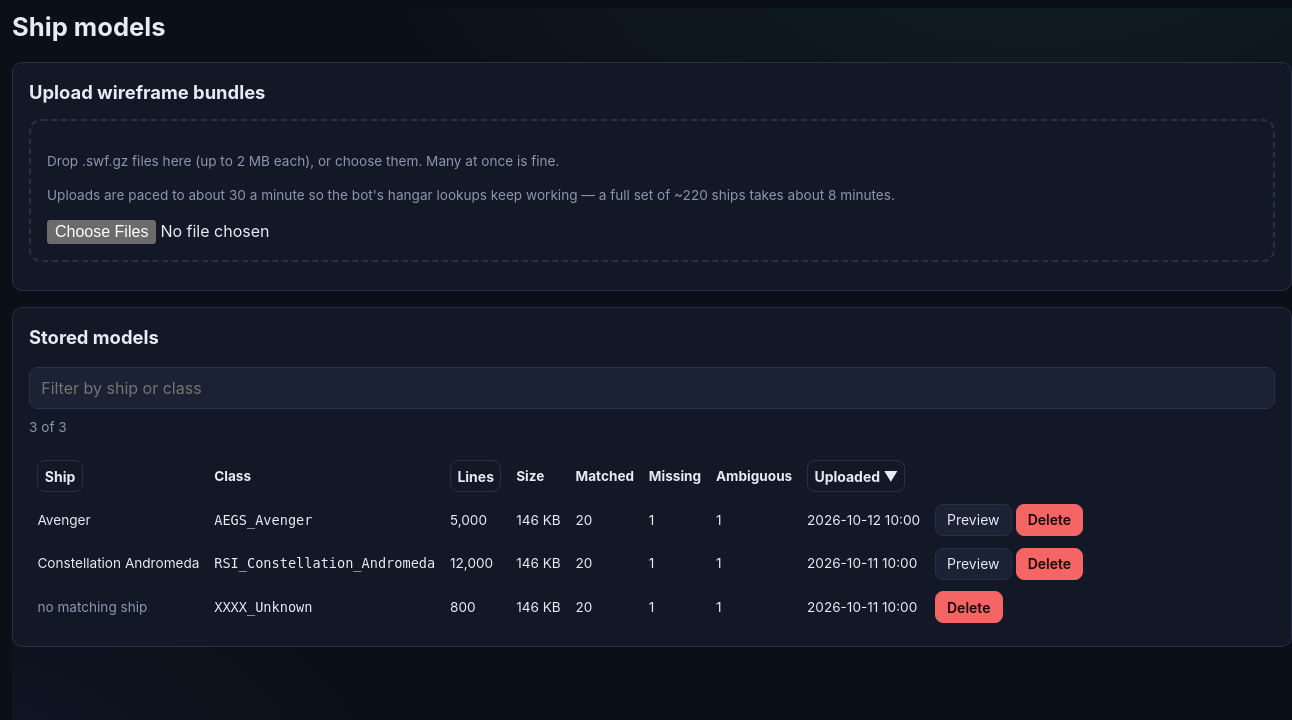
Test: stored models table › lists, filters and sorts
This screenshot has width=1292, height=720.
expect the text "no matching ship" is shown: met, box top-left (37, 599), bottom-right (147, 615)
expect the text "AEGS_Avenger" is shown: met, box top-left (208, 499), bottom-right (442, 541)
Click the button "Lines".
click(476, 476)  # box top-left (450, 460), bottom-right (501, 492)
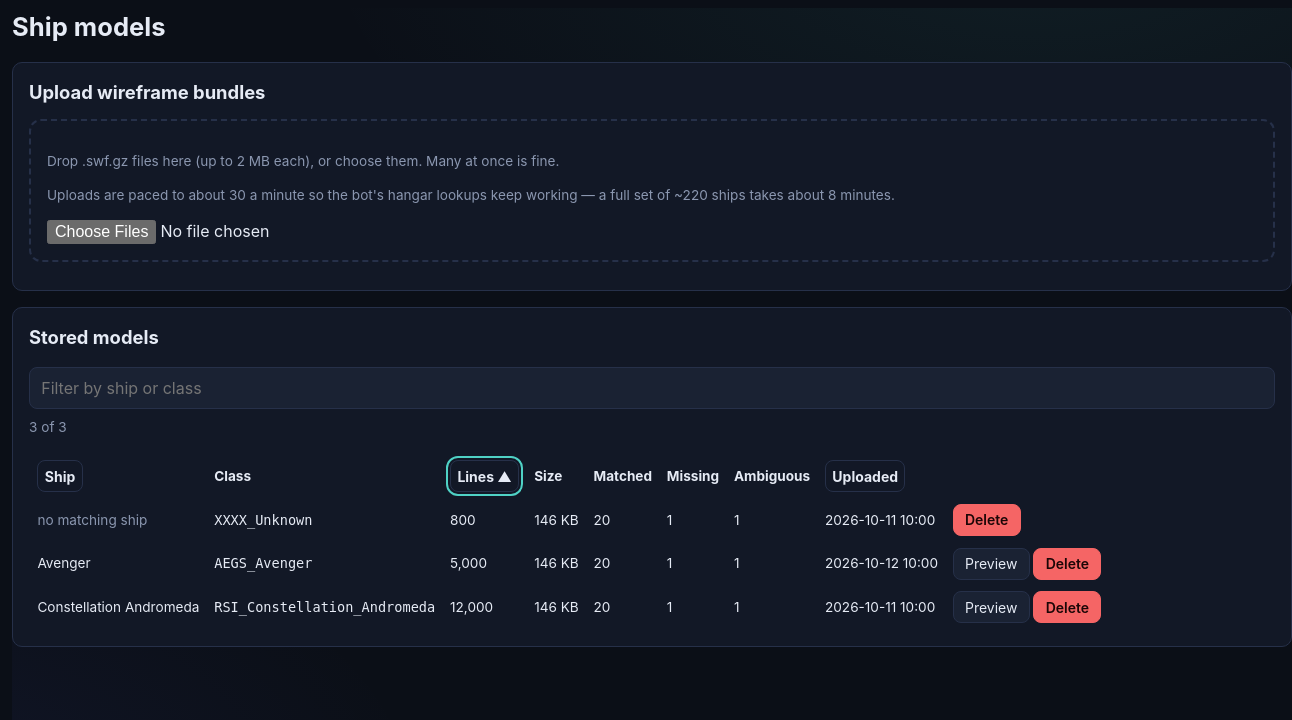
expect the text "XXXX_Unknown" is shown: met, box top-left (208, 499), bottom-right (442, 541)
Click the button "Lines ▲".
click(485, 476)  # box top-left (450, 460), bottom-right (519, 492)
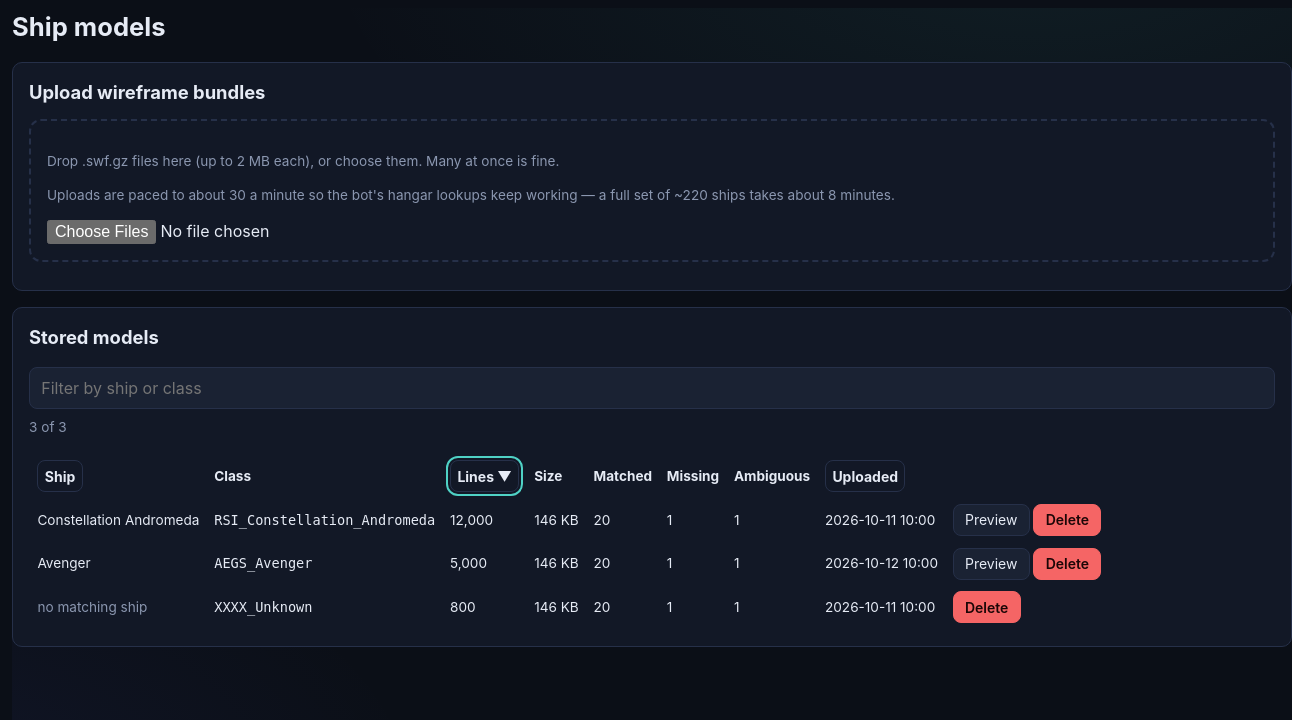
expect the text "RSI_Constellation_Andromeda" is shown: met, box top-left (208, 499), bottom-right (442, 541)
Type "aveng" into the search field named "Filter models".
click(652, 388); type("aveng")  # box top-left (29, 367), bottom-right (1275, 409)
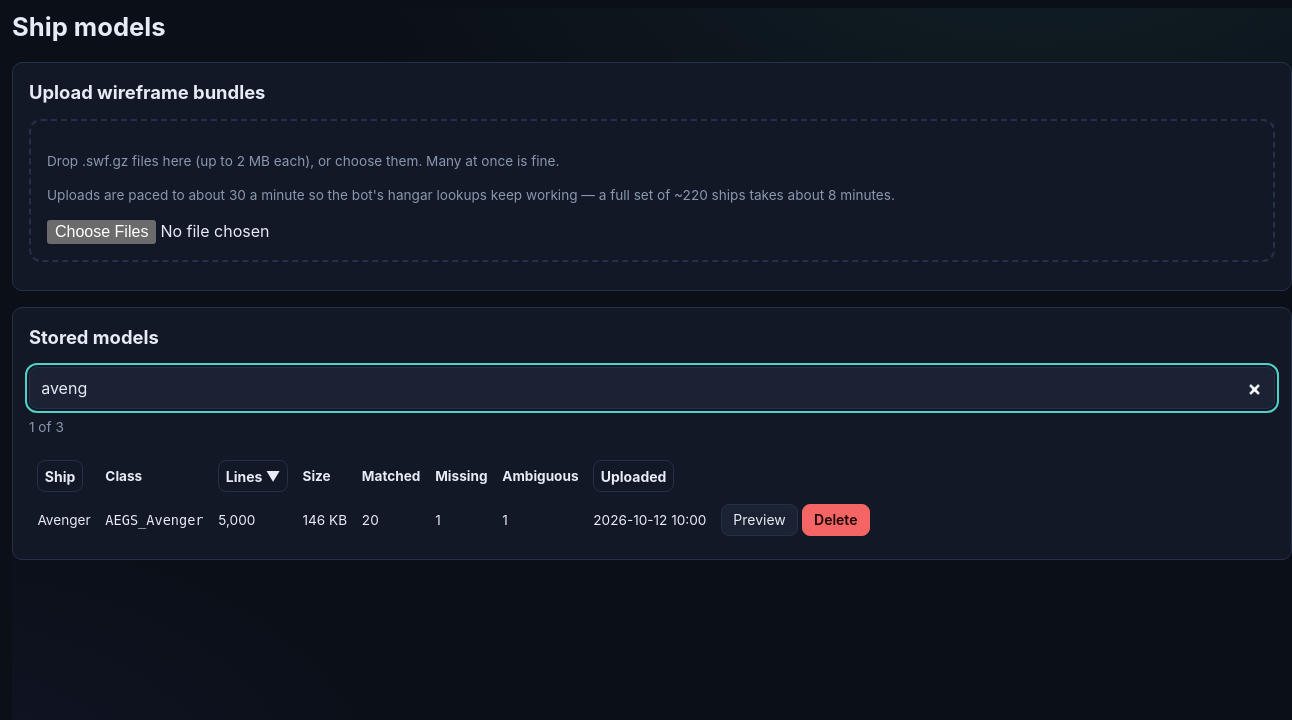
expect the number of rows with test id "model-row" is 1: met, box top-left (31, 499), bottom-right (876, 541)
